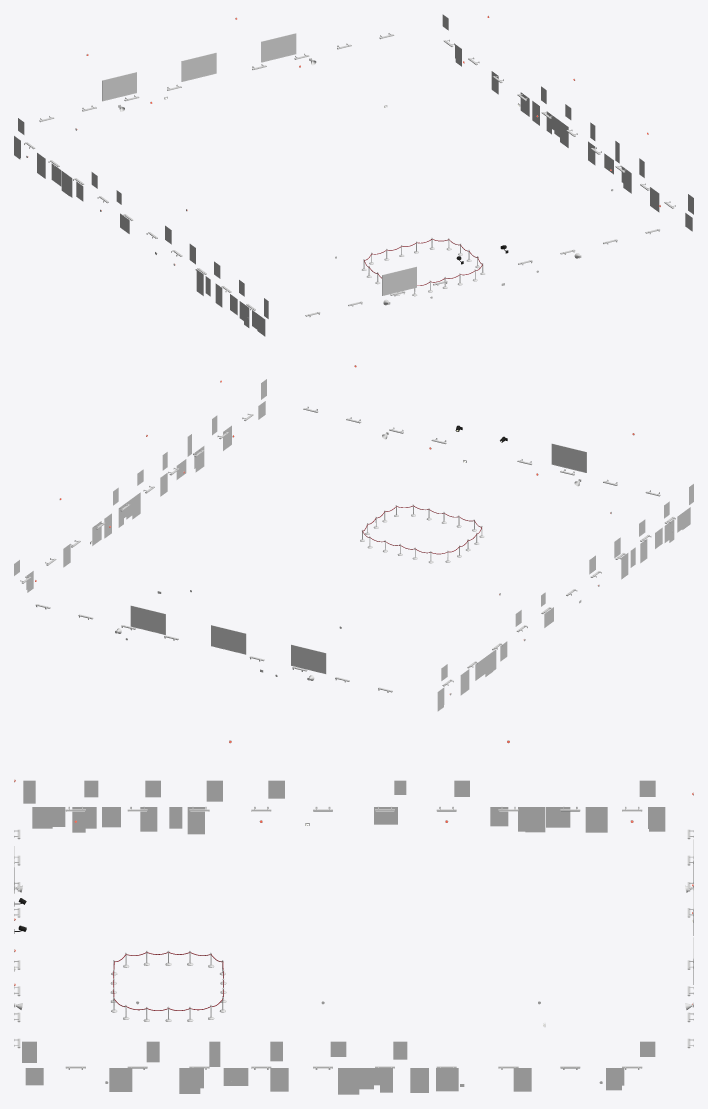
3 renders of one model, top to bottom at view 1: azimuth 30°, elevation 25°; view 2: azimuth 150°, elevation 25°; view 3: azimuth 270°, elevation 25°, orthographic. The views are drawn at different scales.
Parts seen in each view (by area): view 1: sala_colature, sala_lampade, sala_cartellone_n2, sala_cartellone_n1, sala_cartellone_n0, sala_cartellone_s0; view 2: sala_colature, sala_lampade, sala_cartellone_n1, sala_cartellone_n0, sala_cartellone_n2, sala_cartellone_s0; view 3: sala_colature, sala_lampade.
Part boxes in pixels (<box>): sala_colature: <box>14,14,693,336</box>; sala_lampade: <box>24,15,675,319</box>; sala_cartellone_n2: <box>261,33,296,62</box>; sala_cartellone_n1: <box>181,52,216,81</box>; sala_cartellone_n0: <box>102,72,136,101</box>; sala_cartellone_s0: <box>382,266,416,295</box>; sala_colature: <box>14,379,693,711</box>; sala_lampade: <box>20,365,675,695</box>; sala_cartellone_n1: <box>211,625,246,654</box>; sala_cartellone_n0: <box>291,644,326,673</box>; sala_cartellone_n2: <box>130,605,165,634</box>; sala_cartellone_s0: <box>551,443,586,472</box>; sala_colature: <box>22,780,665,1094</box>; sala_lampade: <box>14,740,693,1083</box>.
Size of what is drawn, in the model's own units: 40.01 by 8.7 by 44.01.
